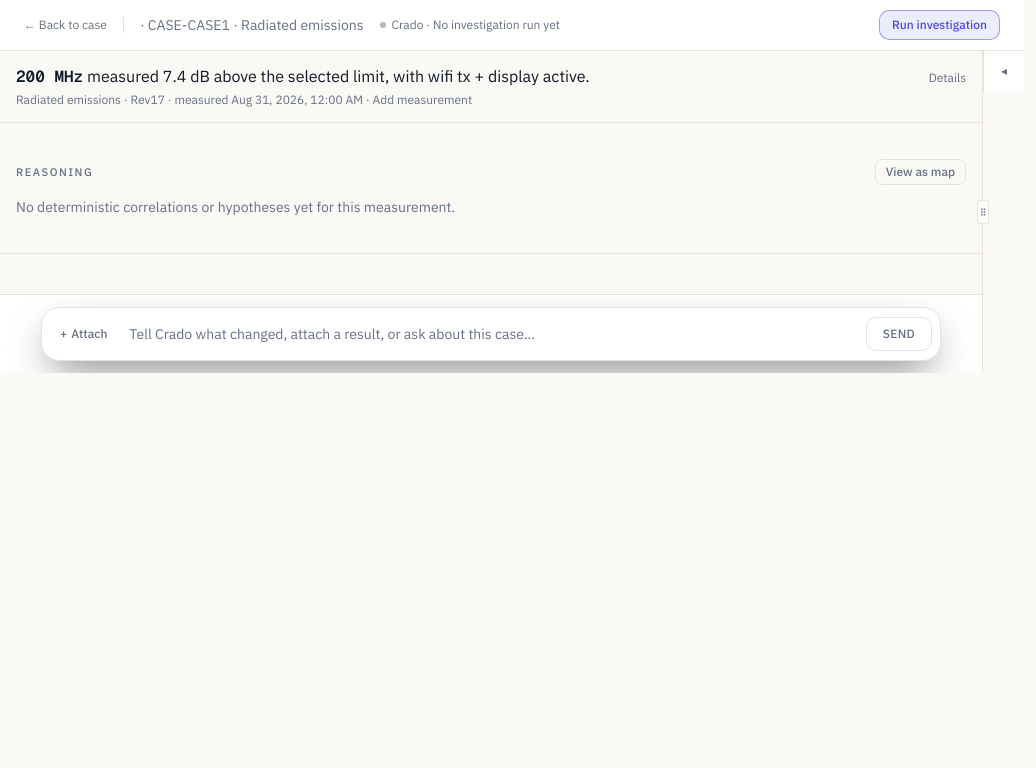
InvestigationWorkspace — streaming › states a relationship was found but no hypothesis was produced, and offers Run again (FIX-01 honest empty state)
This screenshot has width=1036, height=768.
Click the button "Run investigation": point(940, 25) [879,10,1000,40]
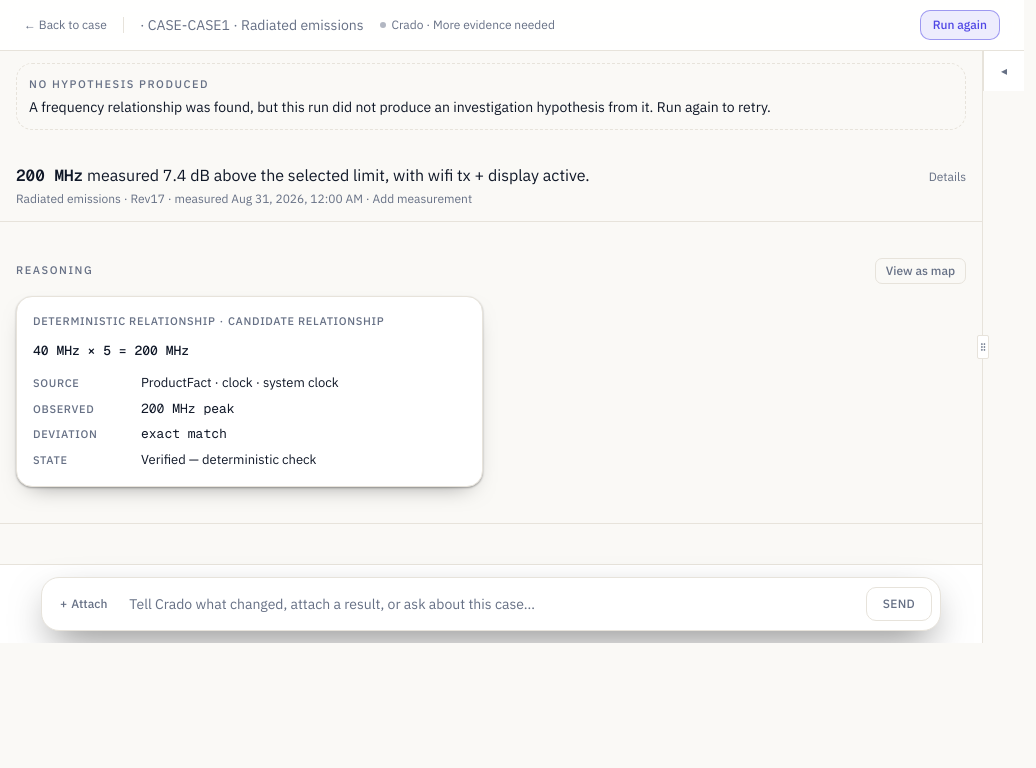
Expected: the button "Run again" is enabled, [920,10,1000,40]
Expected: the text "No hypothesis produced" is shown, [29,77,209,91]
Expected: the text "A frequency relationship was found, but this run did not produce" is shown, [29,98,771,116]
